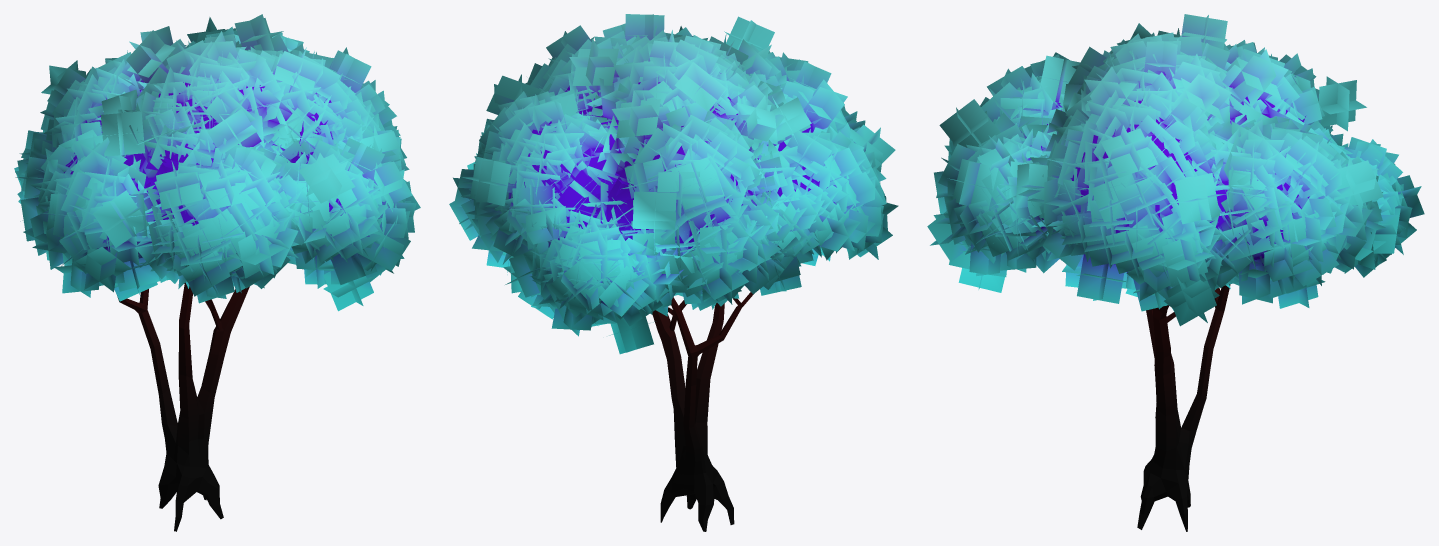
The model's file is SM_Env_Tree_Fruit_03.FBX.
The picture shows the model from 3 angles, left to right: view 1: azimuth 30°, elevation 25°; view 2: azimuth 150°, elevation 25°; view 3: azimuth 270°, elevation 25°; orthographic projection. The views are drawn at different scales.
Visible parts, largest first — view 1: SM_Env_Tree_Fruit_03; view 2: SM_Env_Tree_Fruit_03; view 3: SM_Env_Tree_Fruit_03.
Boxes of the visible parts, left/top/right/bottom form: SM_Env_Tree_Fruit_03: left=14, top=14, right=420, bottom=531; SM_Env_Tree_Fruit_03: left=449, top=14, right=898, bottom=531; SM_Env_Tree_Fruit_03: left=927, top=14, right=1424, bottom=531.
Size of the model in its own units: 379 by 405 by 450.
